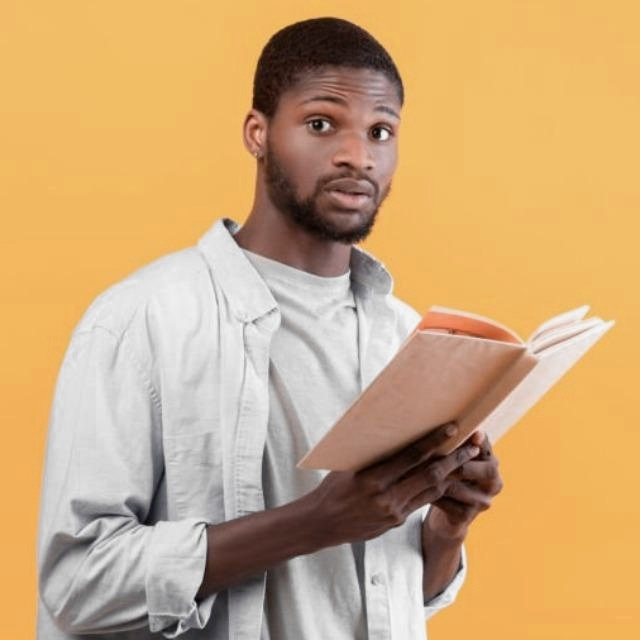Sin_Casco_Mascarrilla: (241, 14, 407, 238)
